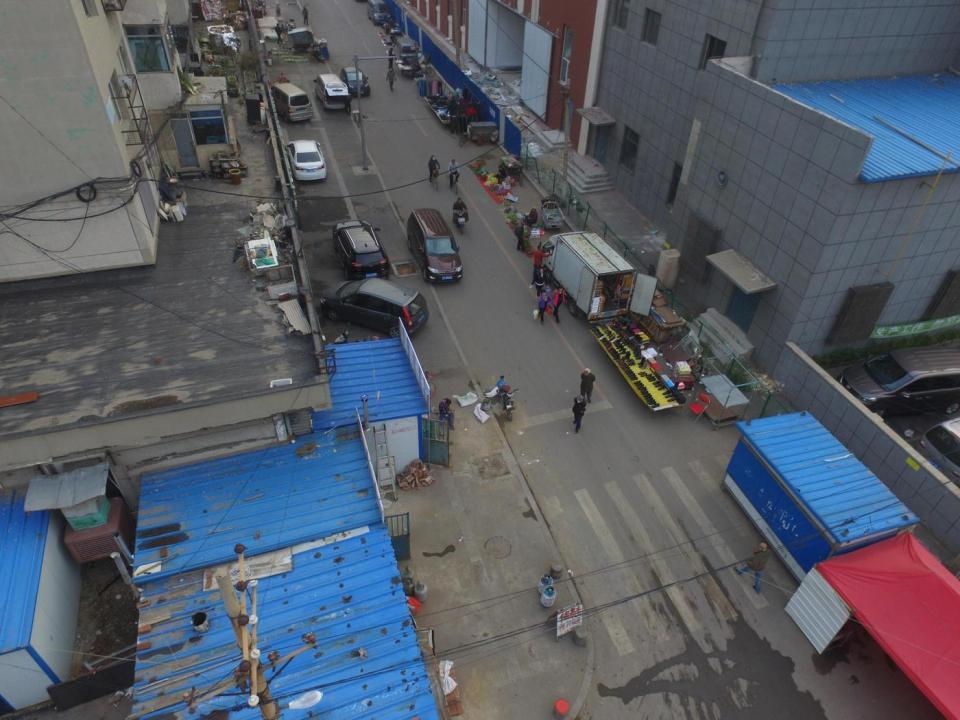car: (320, 277, 429, 340), (332, 219, 390, 282), (284, 139, 326, 182), (339, 66, 371, 97)
van: (539, 230, 659, 324), (832, 345, 954, 418), (406, 207, 463, 284), (265, 82, 313, 123), (313, 74, 350, 112), (366, 0, 391, 27), (395, 36, 418, 65)
